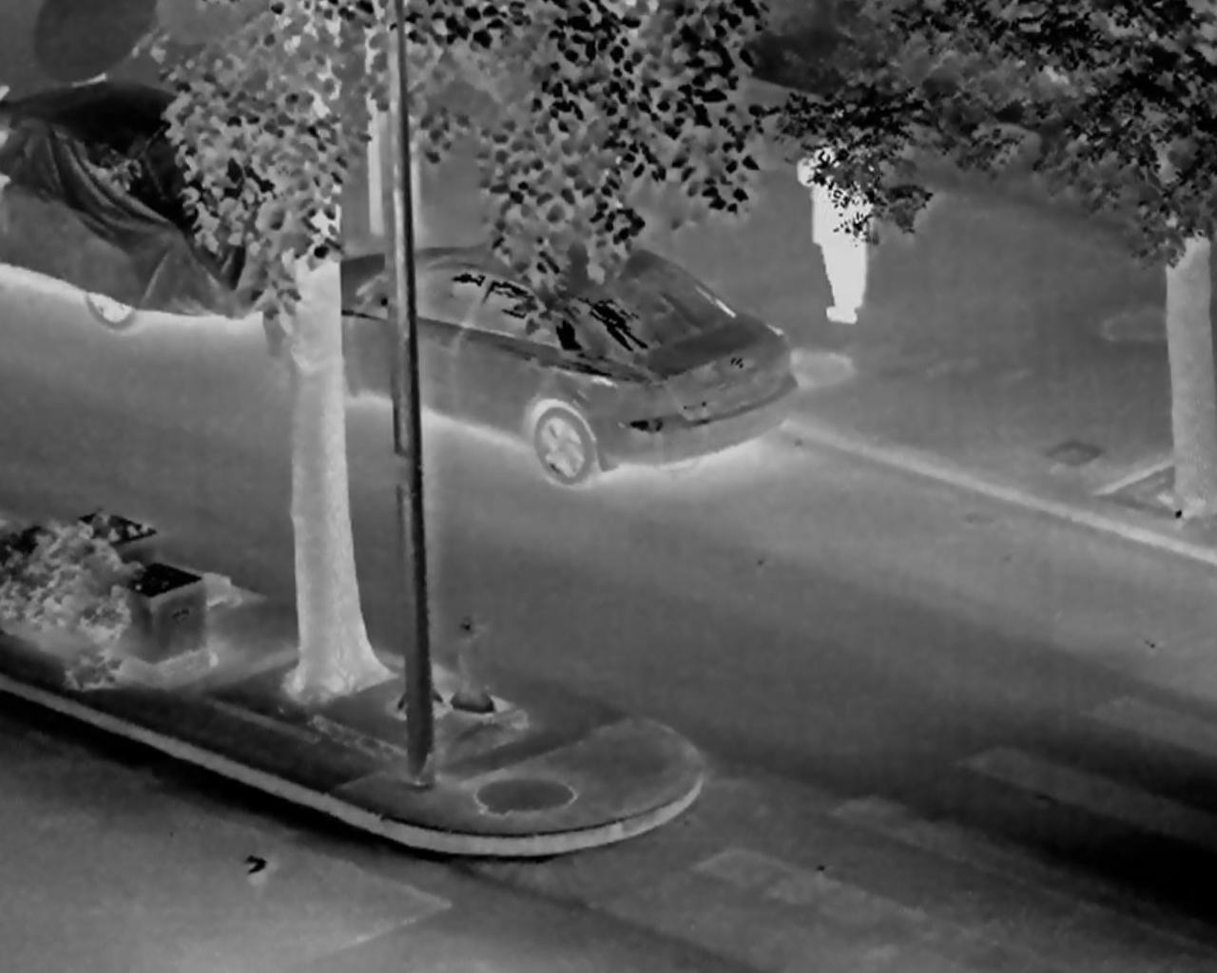person: (796, 127, 872, 328)
